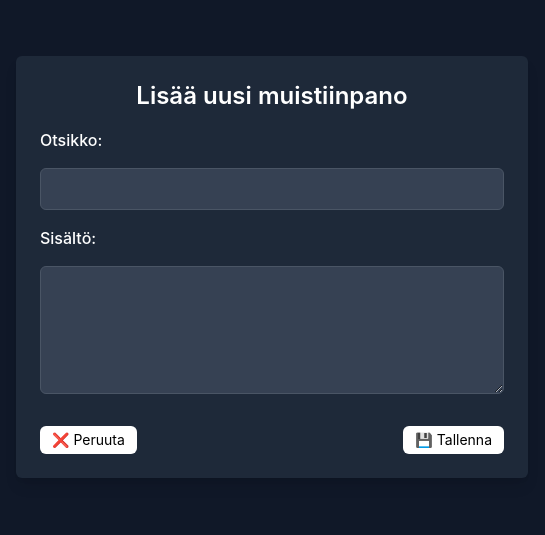
Test: AddNote › displays error message if fetch fails
This screenshot has width=545, height=535.
Type "Virhe" into the field labelled "Otsikko:".
click(272, 189); type("Virhe")  # box [40,168,504,210]
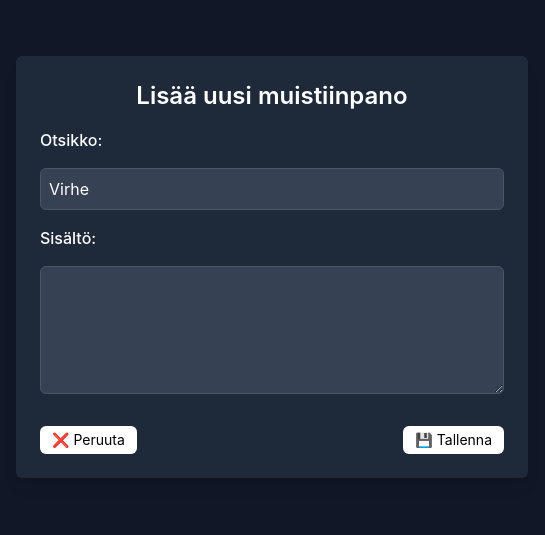
Type "Virhe sisältö." into the text box labelled "Sisältö:".
click(272, 330); type("Virhe sisältö.")  # box [40,266,504,394]
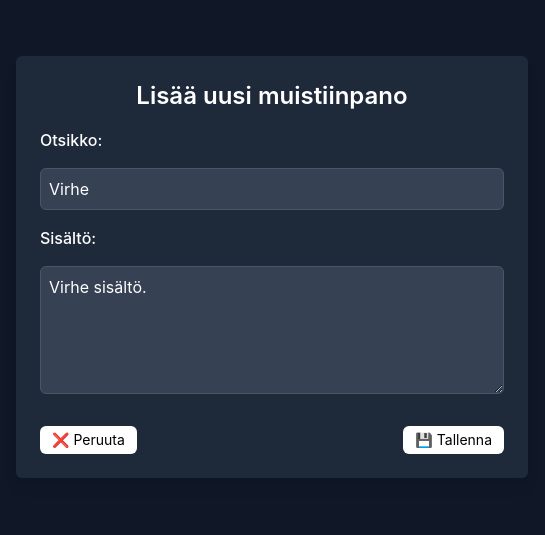
Click the button "💾 Tallenna".
click(454, 440)  # box [403,426,504,454]
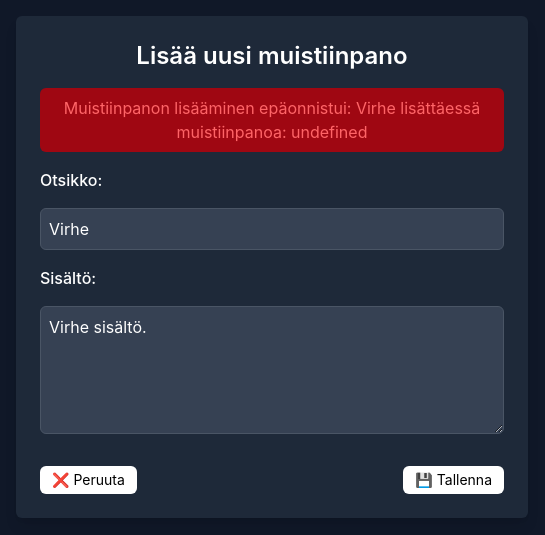
Expected: the text "Muistiinpanon lisääminen epäonnistui" is shown, [64,98,480,142]
